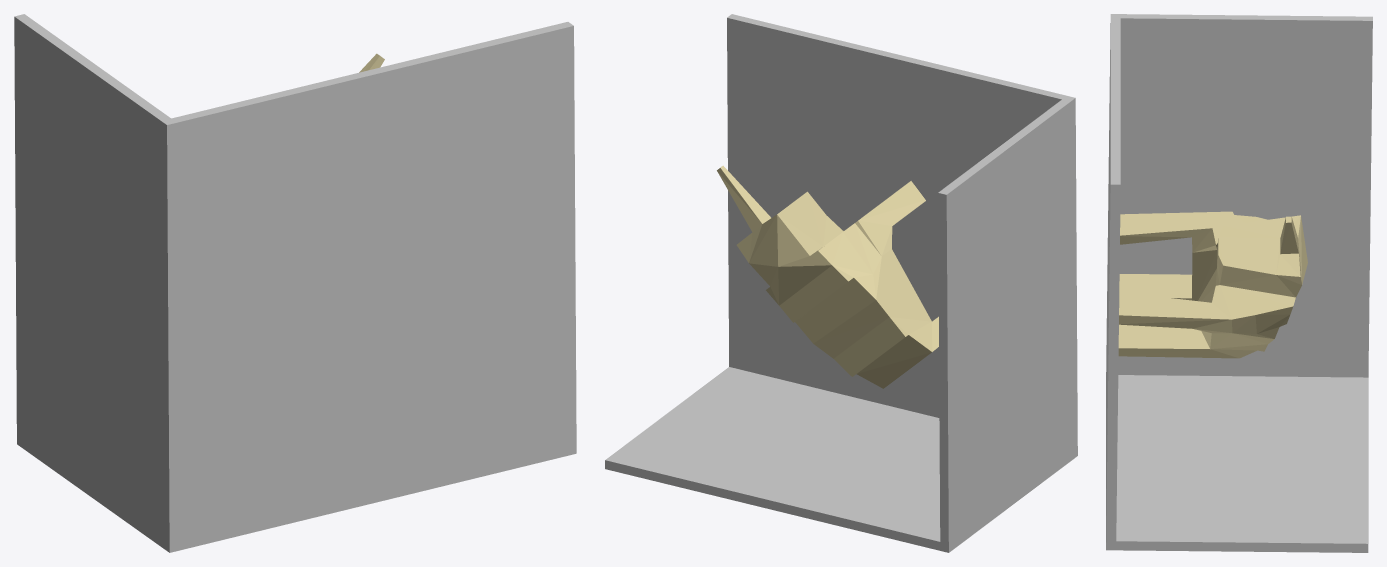
The model's file is bufficorn.gltf.
3 renders of one model, left to right at view 1: azimuth 30°, elevation 25°; view 2: azimuth 150°, elevation 25°; view 3: azimuth 270°, elevation 25°, orthographic. The views are drawn at different scales.
Visible parts, largest first — view 1: fundo.001; view 2: fundo.001, untitled; view 3: fundo.001, untitled.
Boxes of the visible parts, left/top/right/bottom form: fundo.001: left=14, top=14, right=576, bottom=552; fundo.001: left=605, top=14, right=1077, bottom=552; untitled: left=717, top=165, right=938, bottom=388; fundo.001: left=1106, top=14, right=1372, bottom=552; untitled: left=1118, top=211, right=1307, bottom=358.
Size of the model in its own units: 9.39 by 9.46 by 6.21.
